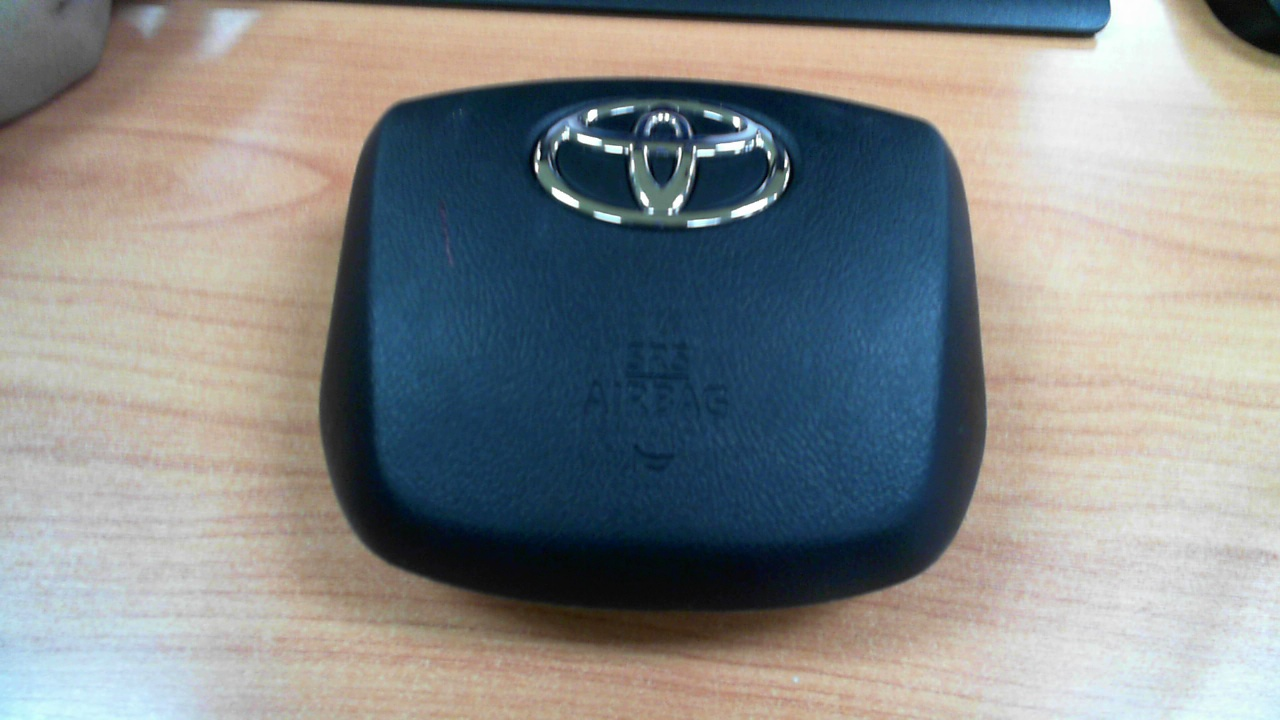Airbag: (319, 81, 987, 613)
Toyota: (534, 97, 791, 229)
